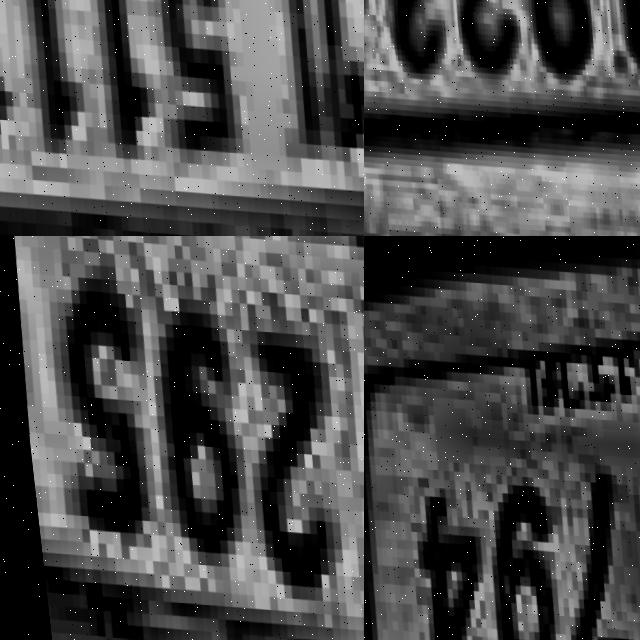license-plate: (0, 236, 364, 640), (364, 236, 640, 640), (0, 0, 364, 236), (364, 0, 640, 202)
